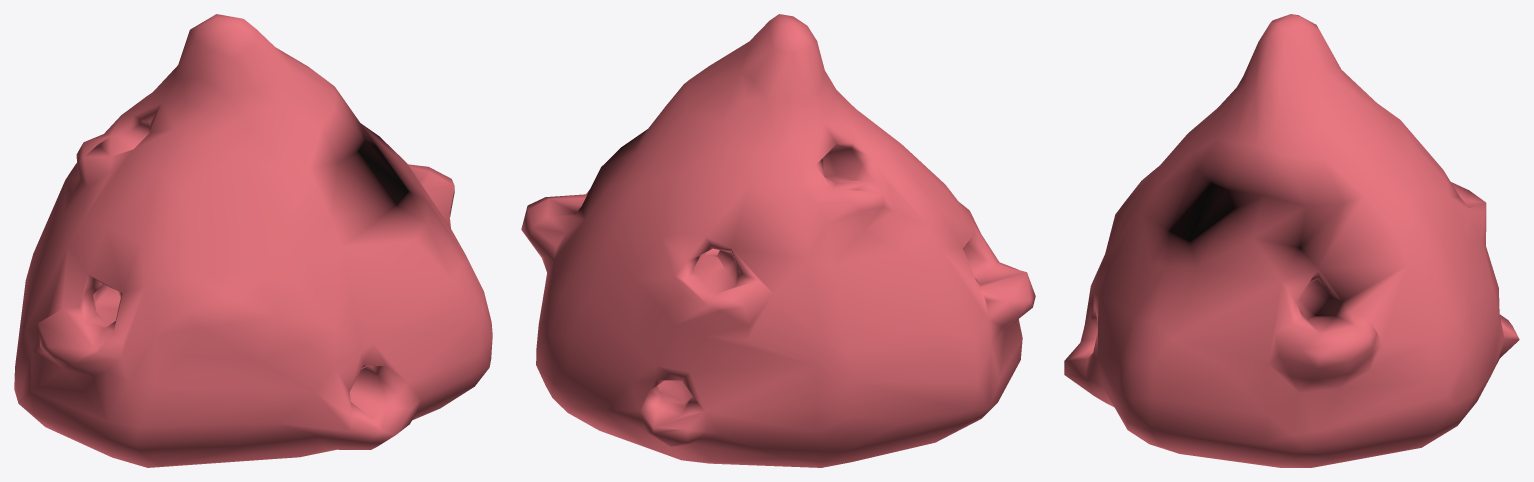
Rendered from BigCaveIslandLOD1.fbx.
3 views of the same model, side by side, from view 1: azimuth 30°, elevation 25°; view 2: azimuth 150°, elevation 25°; view 3: azimuth 270°, elevation 25° (orthographic). The views are drawn at different scales.
Visible parts, largest first — view 1: Cube.047; view 2: Cube.047; view 3: Cube.047.
Boxes of the visible parts, x1,y1,x2,y2 form: Cube.047: (14,14,492,467); Cube.047: (521,14,1035,467); Cube.047: (1064,14,1519,467).
Bounding box in the file's own units: 17022 × 14535 × 15381.
